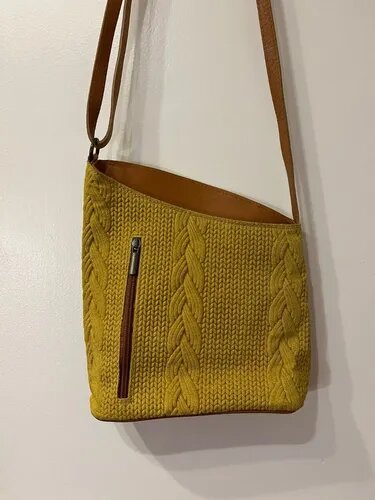cartera: (74, 1, 320, 426)
tela: (73, 150, 320, 429)
